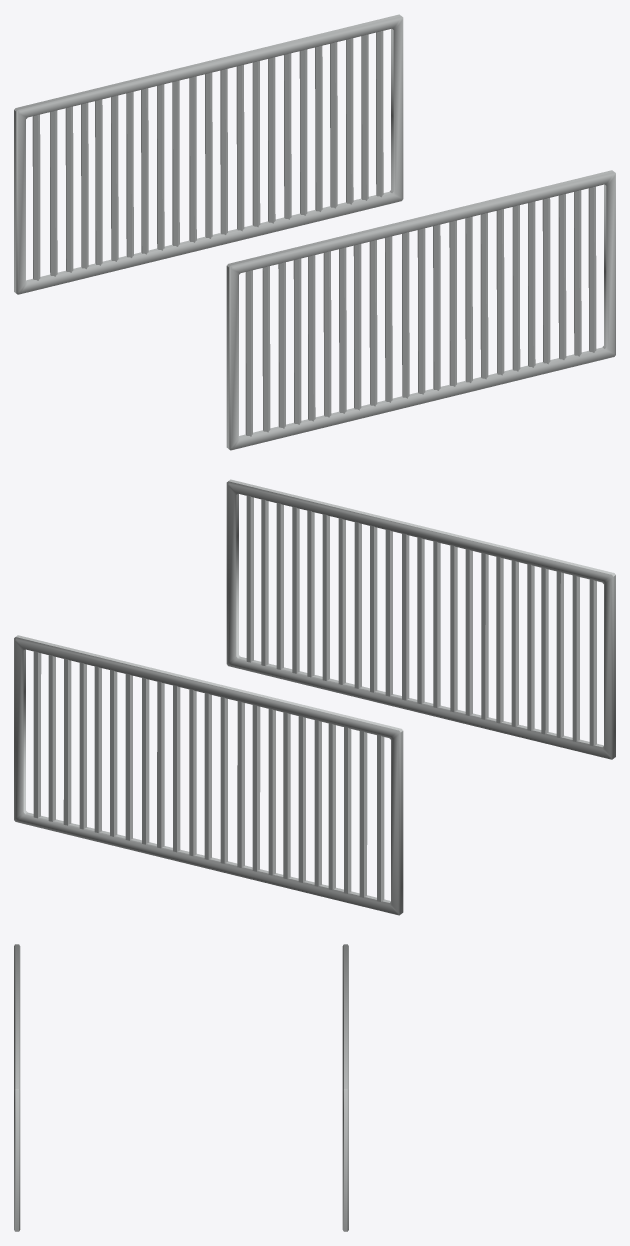
The model's file is FridgebodymeshFridgeA2_0_GeomSubset_2.obj.
3 renders of one model, top to bottom at view 1: azimuth 30°, elevation 25°; view 2: azimuth 150°, elevation 25°; view 3: azimuth 270°, elevation 25°, orthographic. The views are drawn at different scales.
Parts seen in each view (by area): view 1: FridgebodymeshFridgeA2_0_GeomSubset_2; view 2: FridgebodymeshFridgeA2_0_GeomSubset_2; view 3: FridgebodymeshFridgeA2_0_GeomSubset_2.
Boxes of the visible parts, x1,y1,x2,y2 form: FridgebodymeshFridgeA2_0_GeomSubset_2: (14,14,615,450); FridgebodymeshFridgeA2_0_GeomSubset_2: (14,479,615,915); FridgebodymeshFridgeA2_0_GeomSubset_2: (14,944,348,1231).
Bounding box in the file's own units: 0.7442 × 0.34 × 1.3.
